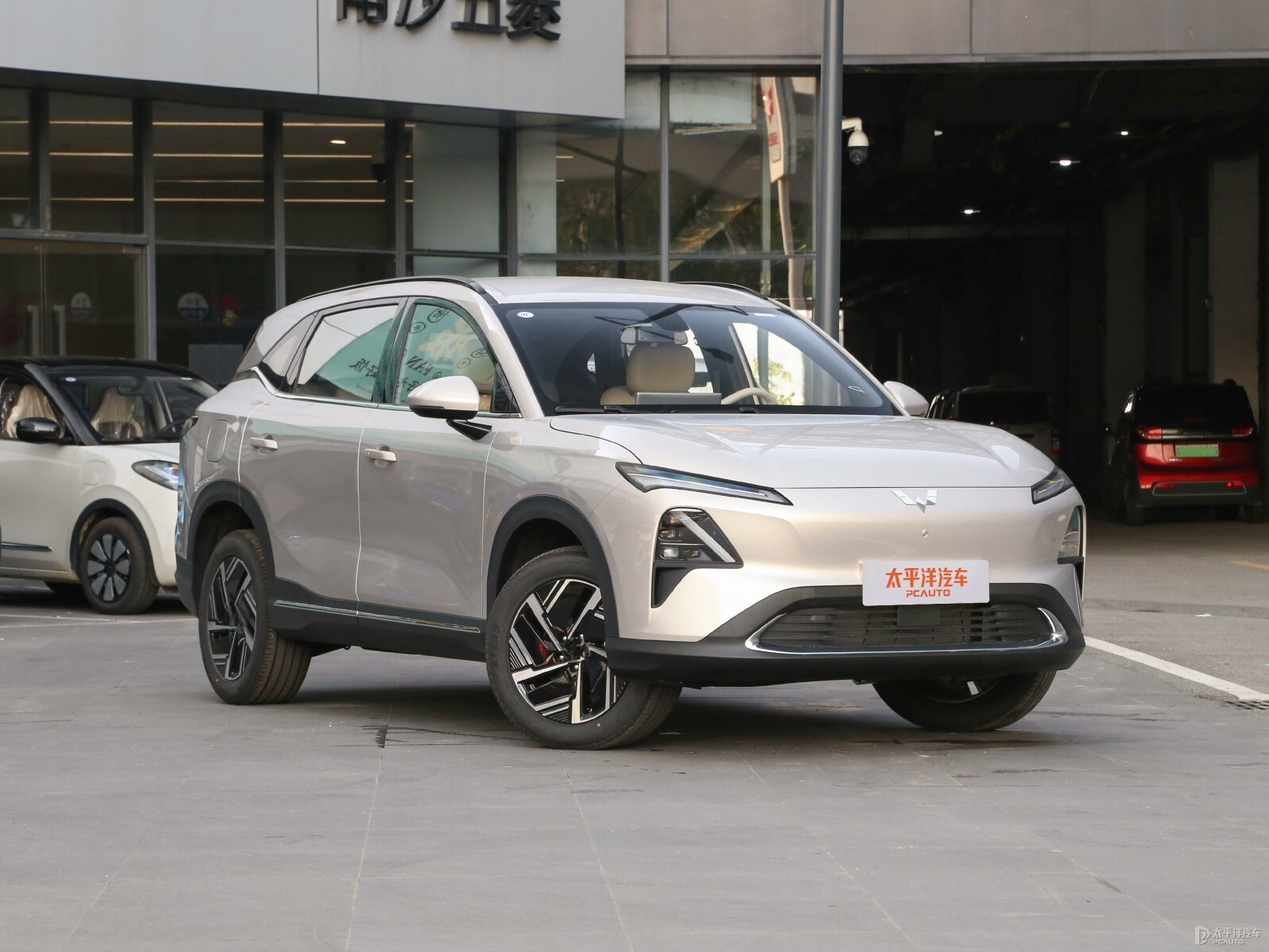SGMW: (891, 489, 937, 512)
